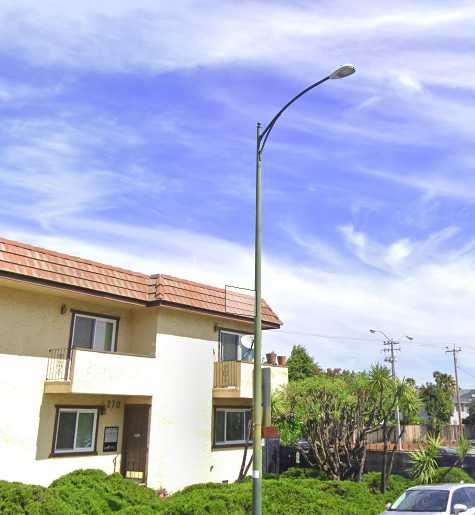pole: (248, 60, 362, 282)
